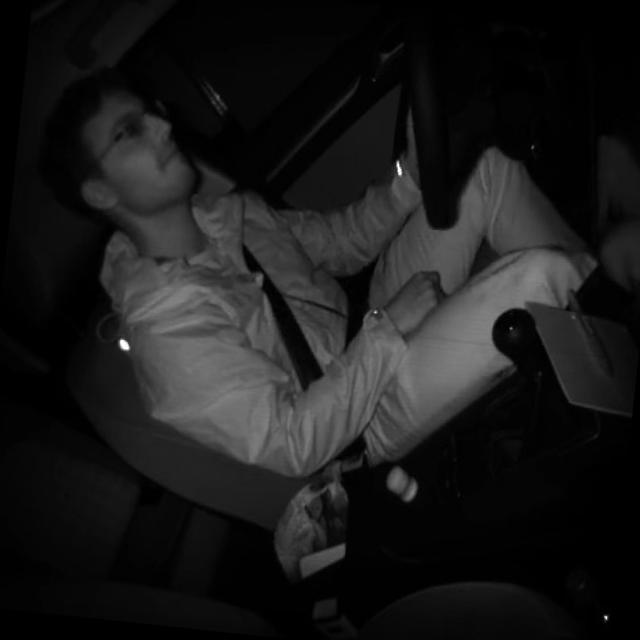pen: (554, 281, 628, 382)
